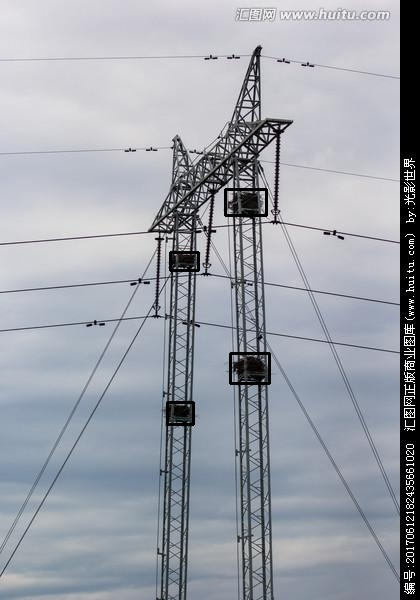bird-nest: (230, 353, 269, 383), (225, 189, 266, 215), (167, 402, 193, 424), (170, 252, 198, 270)
